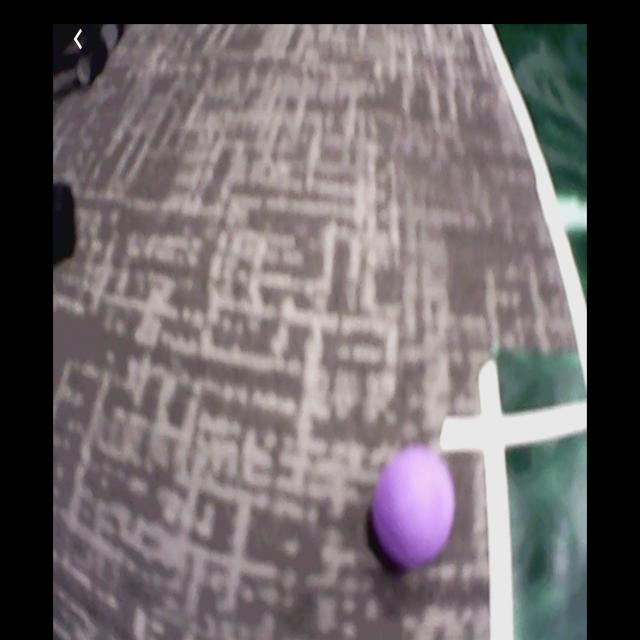ball: (368, 444, 457, 574)
